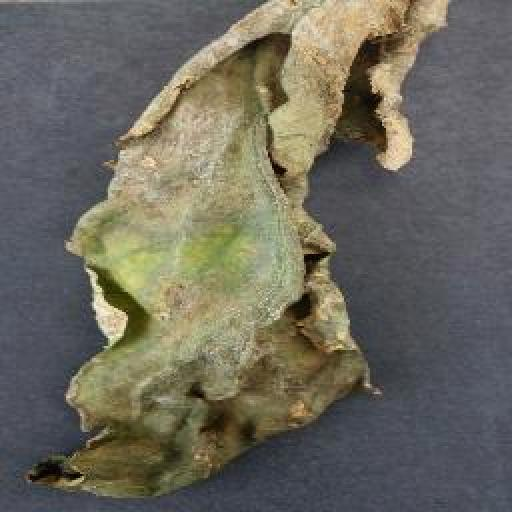disease_tomato: (28, 0, 450, 502)
